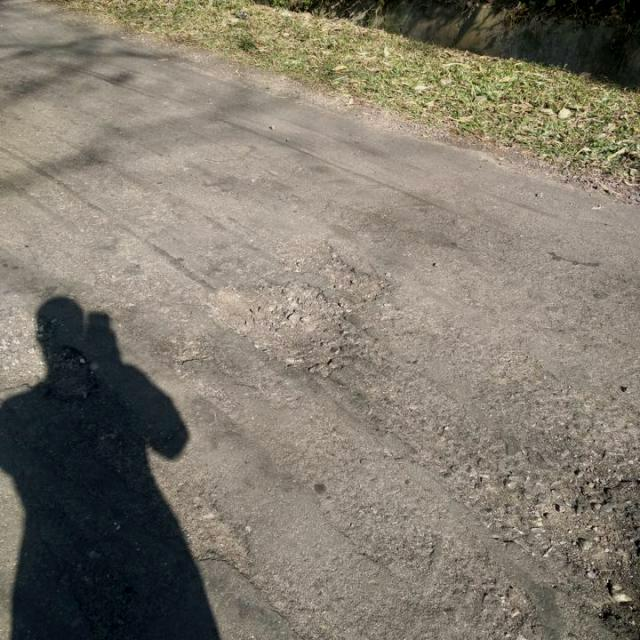Pothole: (205, 280, 356, 378), (532, 488, 640, 597), (286, 237, 393, 300)
